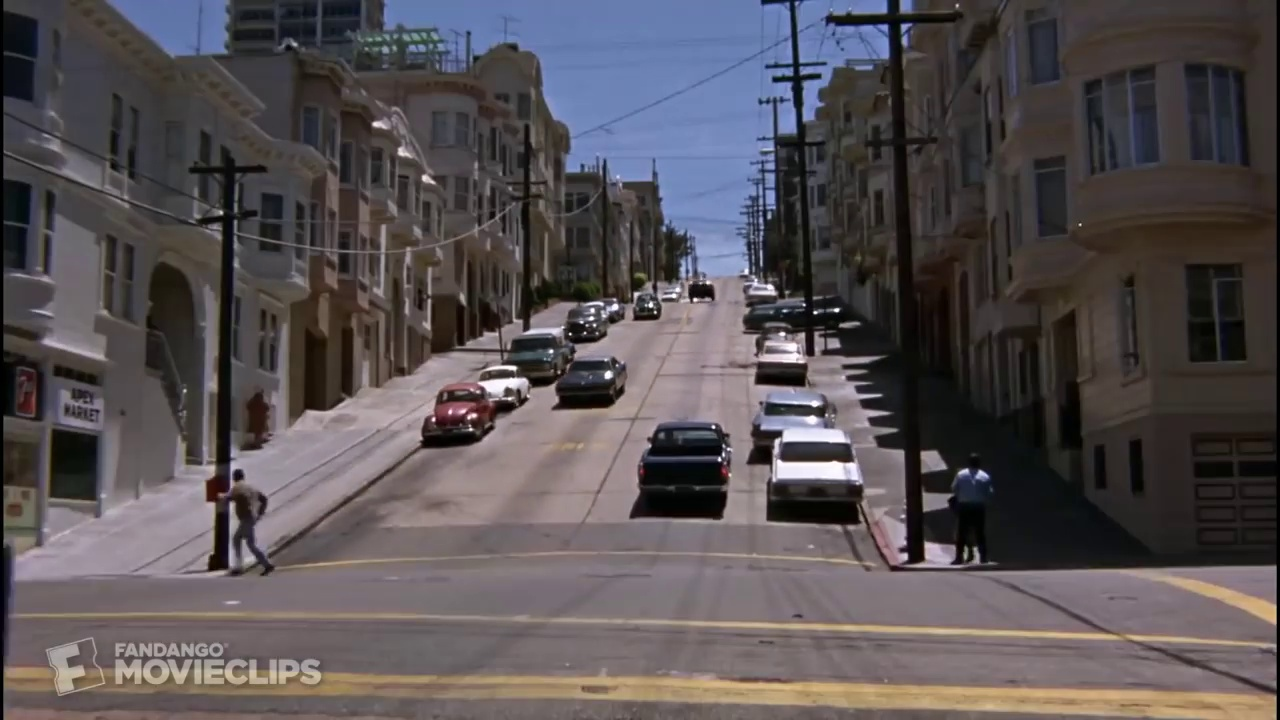car: (759, 426, 866, 516), (745, 386, 844, 459), (418, 377, 505, 449), (550, 355, 632, 411), (739, 297, 849, 333), (465, 361, 536, 416), (750, 332, 815, 385), (554, 301, 614, 343), (740, 279, 784, 309), (631, 290, 664, 325), (682, 276, 720, 305)
person: (209, 459, 287, 583), (944, 449, 1005, 573)
truck: (629, 417, 736, 513), (499, 320, 583, 389)
